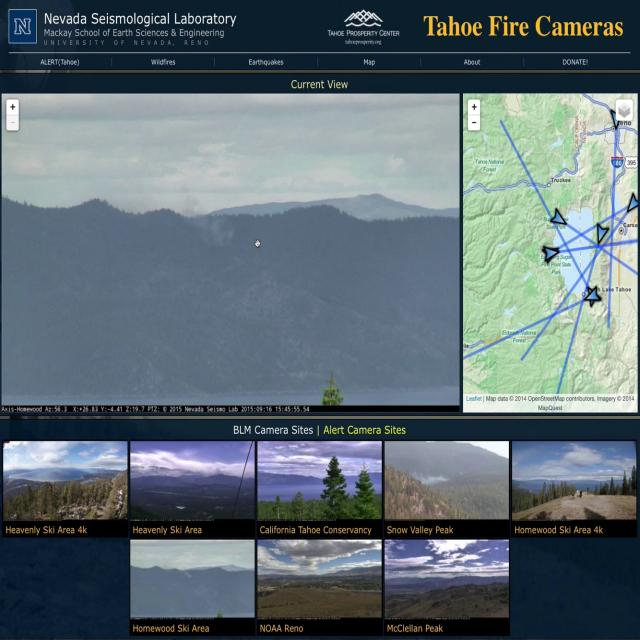smoke: (168, 189, 244, 250)
